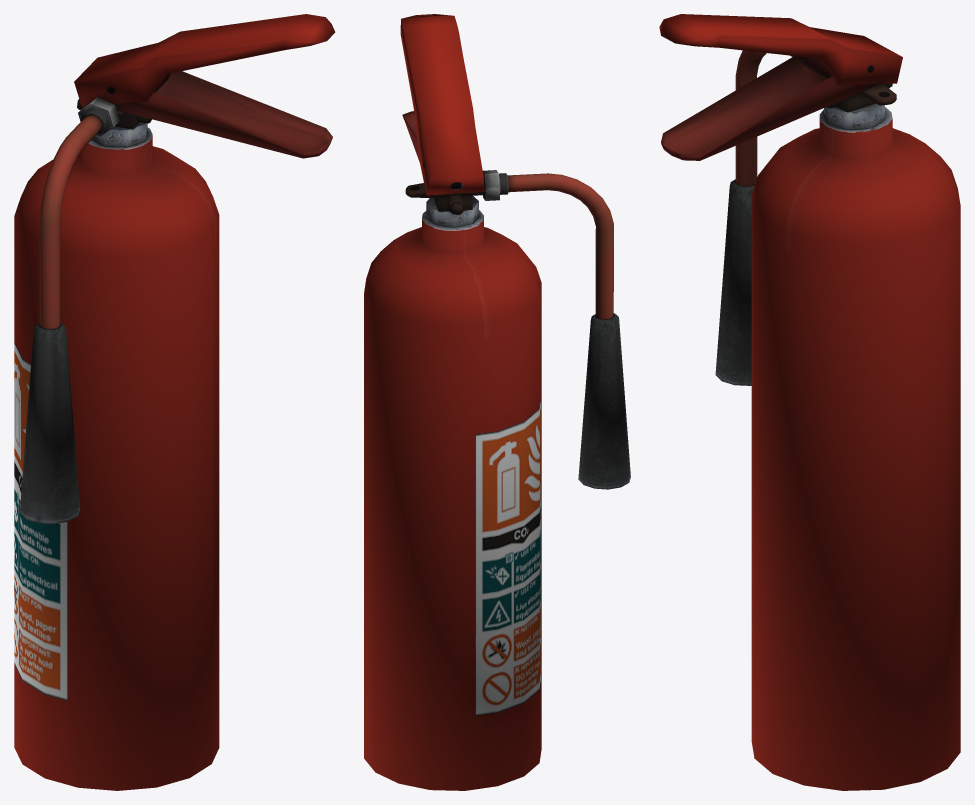
The model's file is extintor.obj.
3 views of the same model, side by side, from view 1: azimuth 30°, elevation 25°; view 2: azimuth 150°, elevation 25°; view 3: azimuth 270°, elevation 25° (orthographic). The views are drawn at different scales.
Parts seen in each view (by area): view 1: Mesh; view 2: Mesh; view 3: Mesh.
Boxes of the visible parts, <box> form: Mesh: <box>14,14,335,790</box>; Mesh: <box>364,14,630,790</box>; Mesh: <box>659,14,960,790</box>.
Bounding box in the file's own units: 1.56 × 3.98 × 1.41.
Materials: 1 (1 with a texture image).
